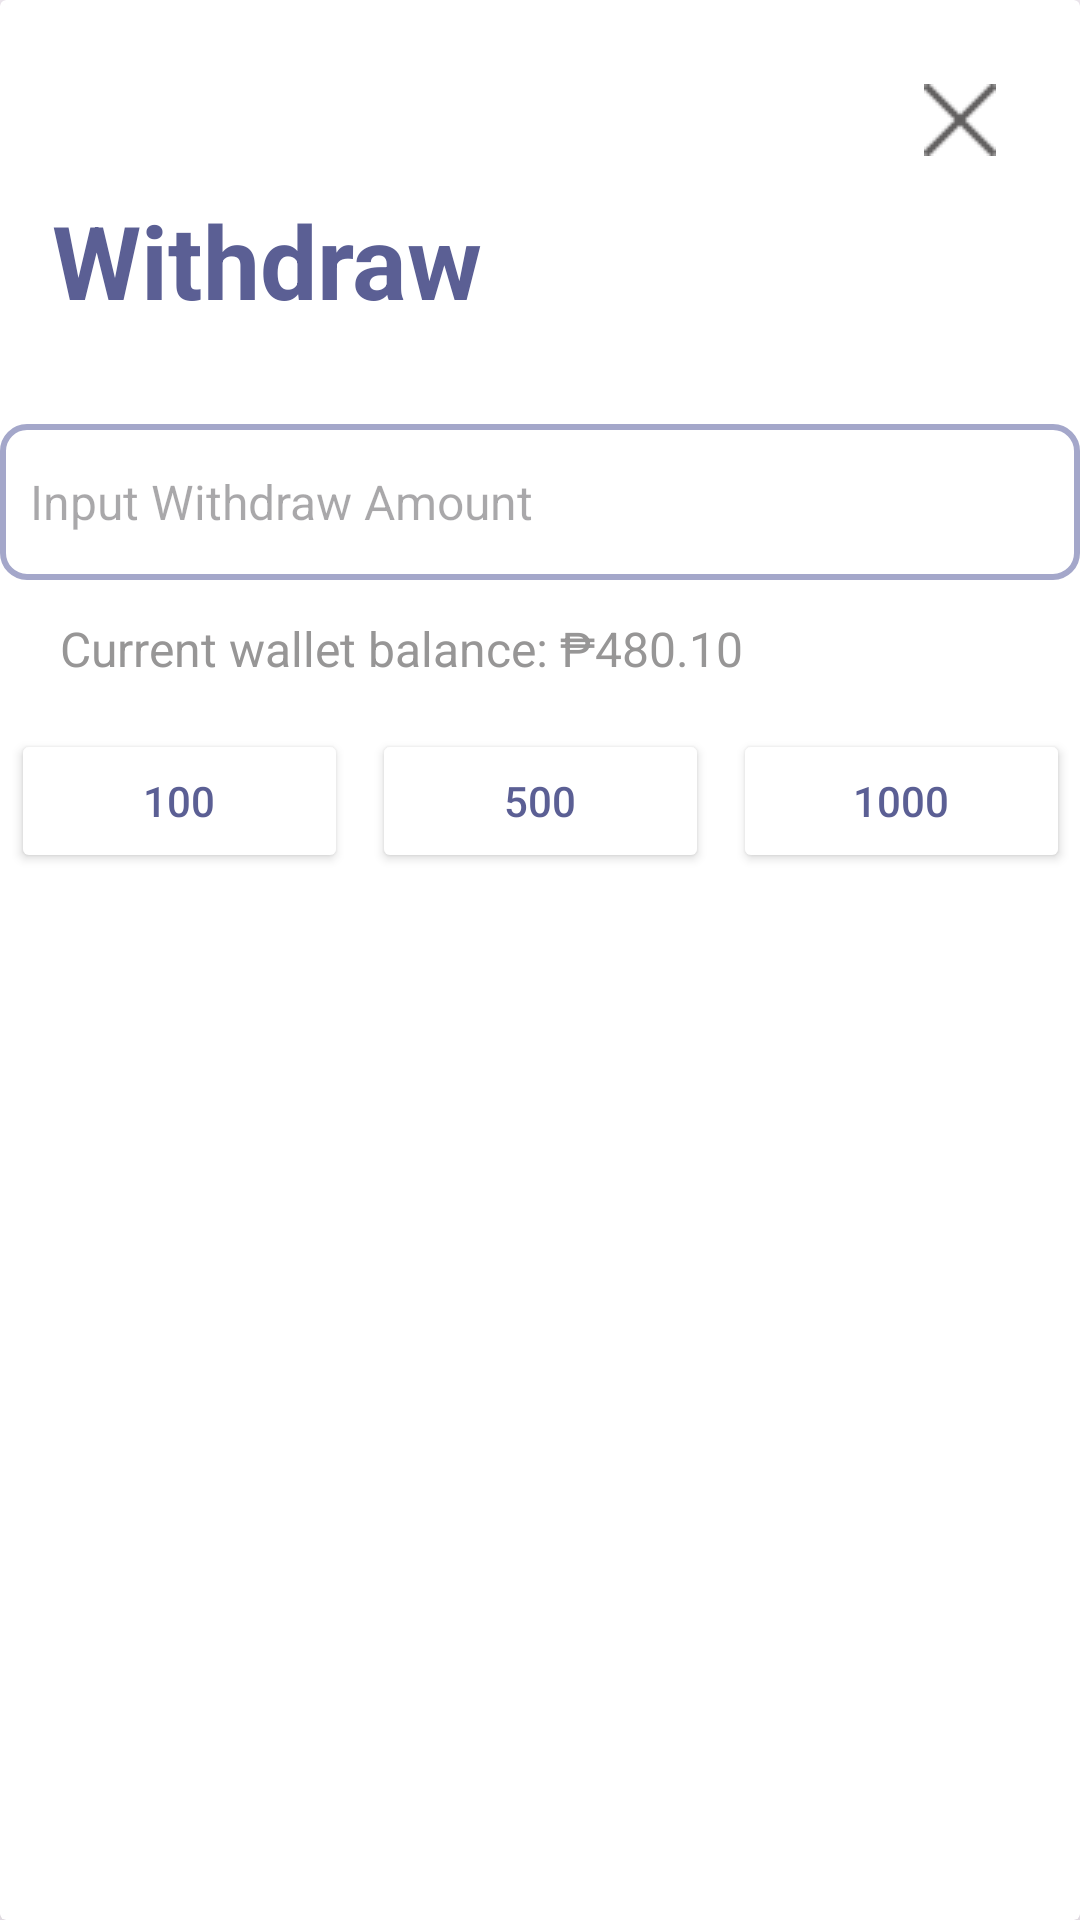

Where icons sit on this 1080*1920 app screen, as (x1, y1, x2, y2):
Close the dialog: (924, 84, 996, 156)
